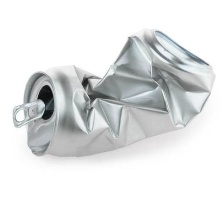can: (6, 25, 220, 160)
